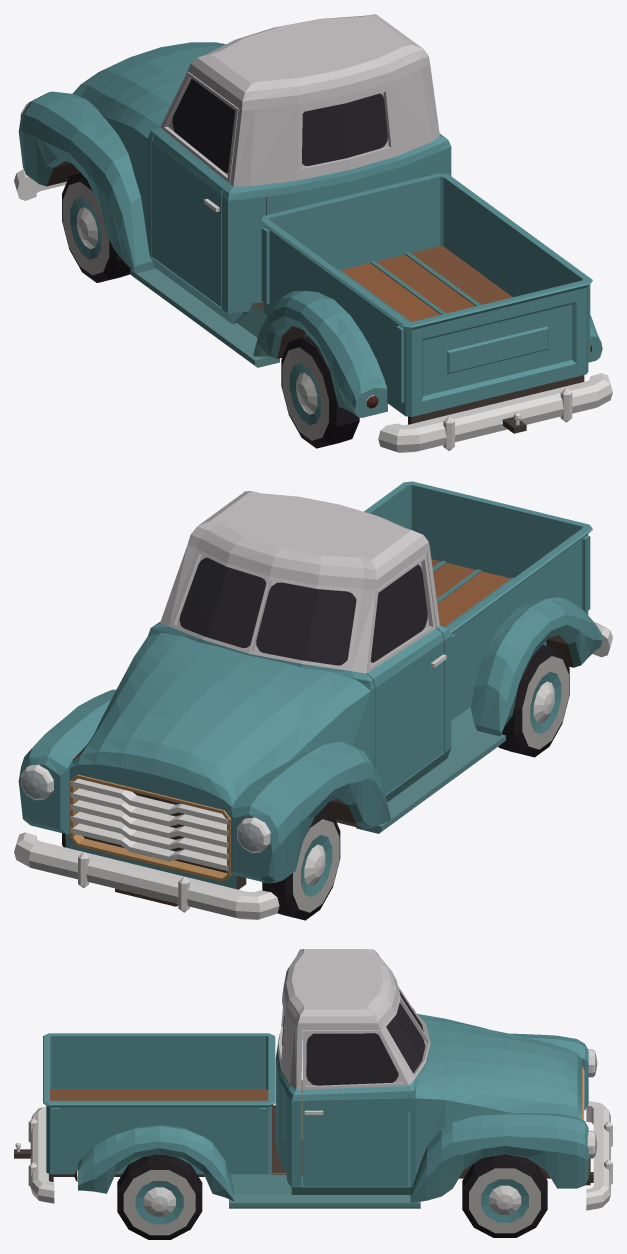
Rendered from veh_pickup_pf.glb.
3 views of the same model, one above another, from view 1: azimuth 30°, elevation 25°; view 2: azimuth 150°, elevation 25°; view 3: azimuth 270°, elevation 25° (orthographic). The views are drawn at different scales.
Visible parts, largest first — view 1: veh_pickup_pf_body0, veh_pickup_pf_body1, veh_pickup_pf_WHEEL_RL, veh_pickup_pf_WHEEL_FL; view 2: veh_pickup_pf_body0, veh_pickup_pf_body1, veh_pickup_pf_WHEEL_RL, veh_pickup_pf_WHEEL_FL; view 3: veh_pickup_pf_body0, veh_pickup_pf_body2, veh_pickup_pf_WHEEL_RR, veh_pickup_pf_WHEEL_FR.
Boxes of the visible parts, x1,y1,x2,y2 form: veh_pickup_pf_body0: [14, 14, 612, 452]; veh_pickup_pf_body1: [152, 72, 238, 307]; veh_pickup_pf_WHEEL_RL: [281, 336, 359, 448]; veh_pickup_pf_WHEEL_FL: [62, 172, 130, 282]; veh_pickup_pf_body0: [14, 481, 612, 919]; veh_pickup_pf_body1: [366, 554, 446, 794]; veh_pickup_pf_WHEEL_RL: [498, 645, 569, 757]; veh_pickup_pf_WHEEL_FL: [262, 810, 340, 920]; veh_pickup_pf_body0: [14, 949, 612, 1210]; veh_pickup_pf_body2: [302, 1030, 408, 1186]; veh_pickup_pf_WHEEL_RR: [117, 1154, 202, 1239]; veh_pickup_pf_WHEEL_FR: [462, 1154, 547, 1237].
Bounding box in the file's own units: 1.9 × 1.93 × 4.83.
